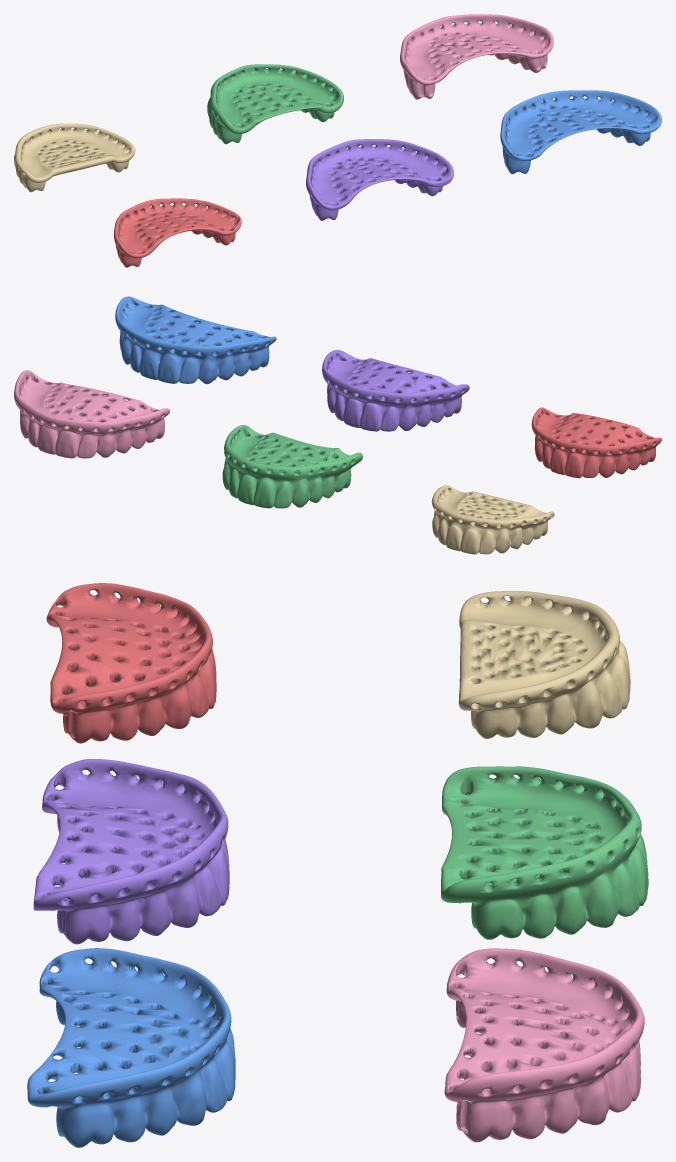
File: tamanos-de-arco.glb
3 views of the same model, one above another, from view 1: azimuth 30°, elevation 25°; view 2: azimuth 150°, elevation 25°; view 3: azimuth 270°, elevation 25° (orthographic). The views are drawn at different scales.
Visible parts, largest first — view 1: CW, C, BW, B, A, AW; view 2: CW, C, BW, B, AW, A; view 3: CW, C, B, BW, AW, A.
Boxes of the visible parts, x1=… form: CW: x1=500, y1=90, x2=661, y2=174; C: x1=400, y1=14, x2=553, y2=99; BW: x1=306, y1=139, x2=453, y2=220; B: x1=207, y1=64, x2=343, y2=144; A: x1=14, y1=123, x2=135, y2=192; AW: x1=114, y1=198, x2=241, y2=267; CW: x1=115, y1=296, x2=276, y2=384; C: x1=14, y1=370, x2=169, y2=458; BW: x1=322, y1=350, x2=469, y2=431; B: x1=222, y1=425, x2=362, y2=508; AW: x1=531, y1=407, x2=661, y2=478; A: x1=431, y1=485, x2=554, y2=554; CW: x1=27, y1=948, x2=235, y2=1147; C: x1=444, y1=948, x2=644, y2=1142; B: x1=441, y1=766, x2=648, y2=939; BW: x1=33, y1=759, x2=229, y2=944; AW: x1=46, y1=583, x2=216, y2=743; A: x1=458, y1=591, x2=630, y2=738.
Bounding box in the file's own units: 254 × 18.2 × 128.
